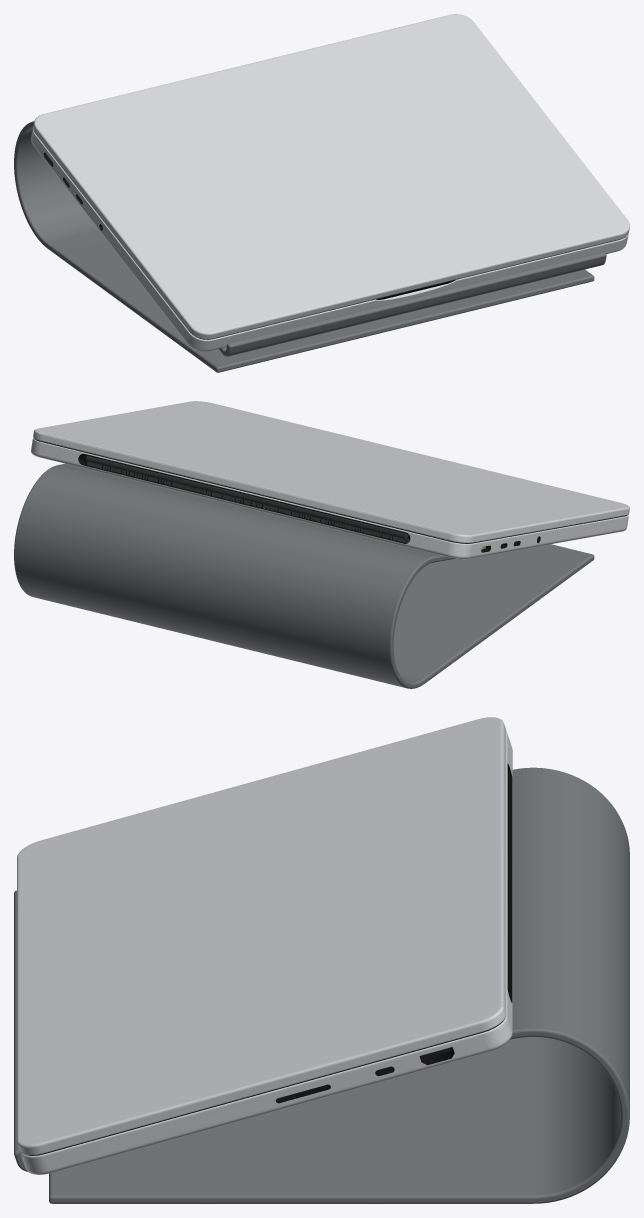
File: macbook.glb
The picture shows the model from 3 angles, top to bottom: view 1: azimuth 30°, elevation 25°; view 2: azimuth 150°, elevation 25°; view 3: azimuth 270°, elevation 25°; orthographic projection. The views are drawn at different scales.
Visible parts, largest first — view 1: NEW_macbook_laptop__mesh, NEW_macbook_root__mesh; view 2: NEW_macbook_root__mesh, NEW_macbook_laptop__mesh; view 3: NEW_macbook_laptop__mesh, NEW_macbook_root__mesh.
Part boxes in pixels (box(x1,y1,x2,y2)): NEW_macbook_laptop__mesh: box(31, 14, 629, 351); NEW_macbook_root__mesh: box(14, 121, 606, 372); NEW_macbook_root__mesh: box(14, 463, 594, 688); NEW_macbook_laptop__mesh: box(31, 401, 629, 559); NEW_macbook_laptop__mesh: box(17, 717, 512, 1174); NEW_macbook_root__mesh: box(14, 767, 629, 1203).
Bounding box in the file's own units: 0.3126 × 0.1018 × 0.2675.
Materials: 1 (1 with a texture image).
